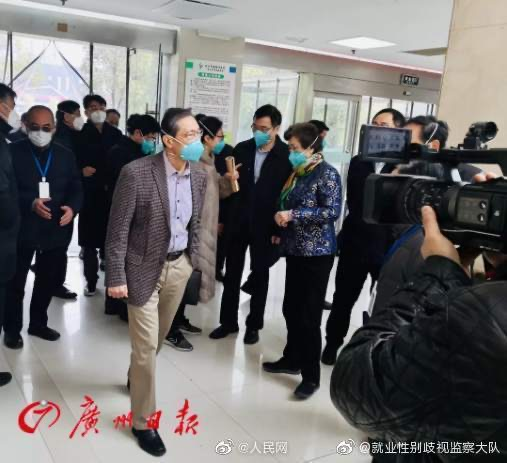rightmask: (164, 108, 204, 172), (284, 122, 325, 173), (24, 105, 56, 149), (252, 103, 280, 152), (199, 116, 227, 158), (3, 80, 21, 141), (56, 99, 88, 133), (83, 92, 110, 131)
